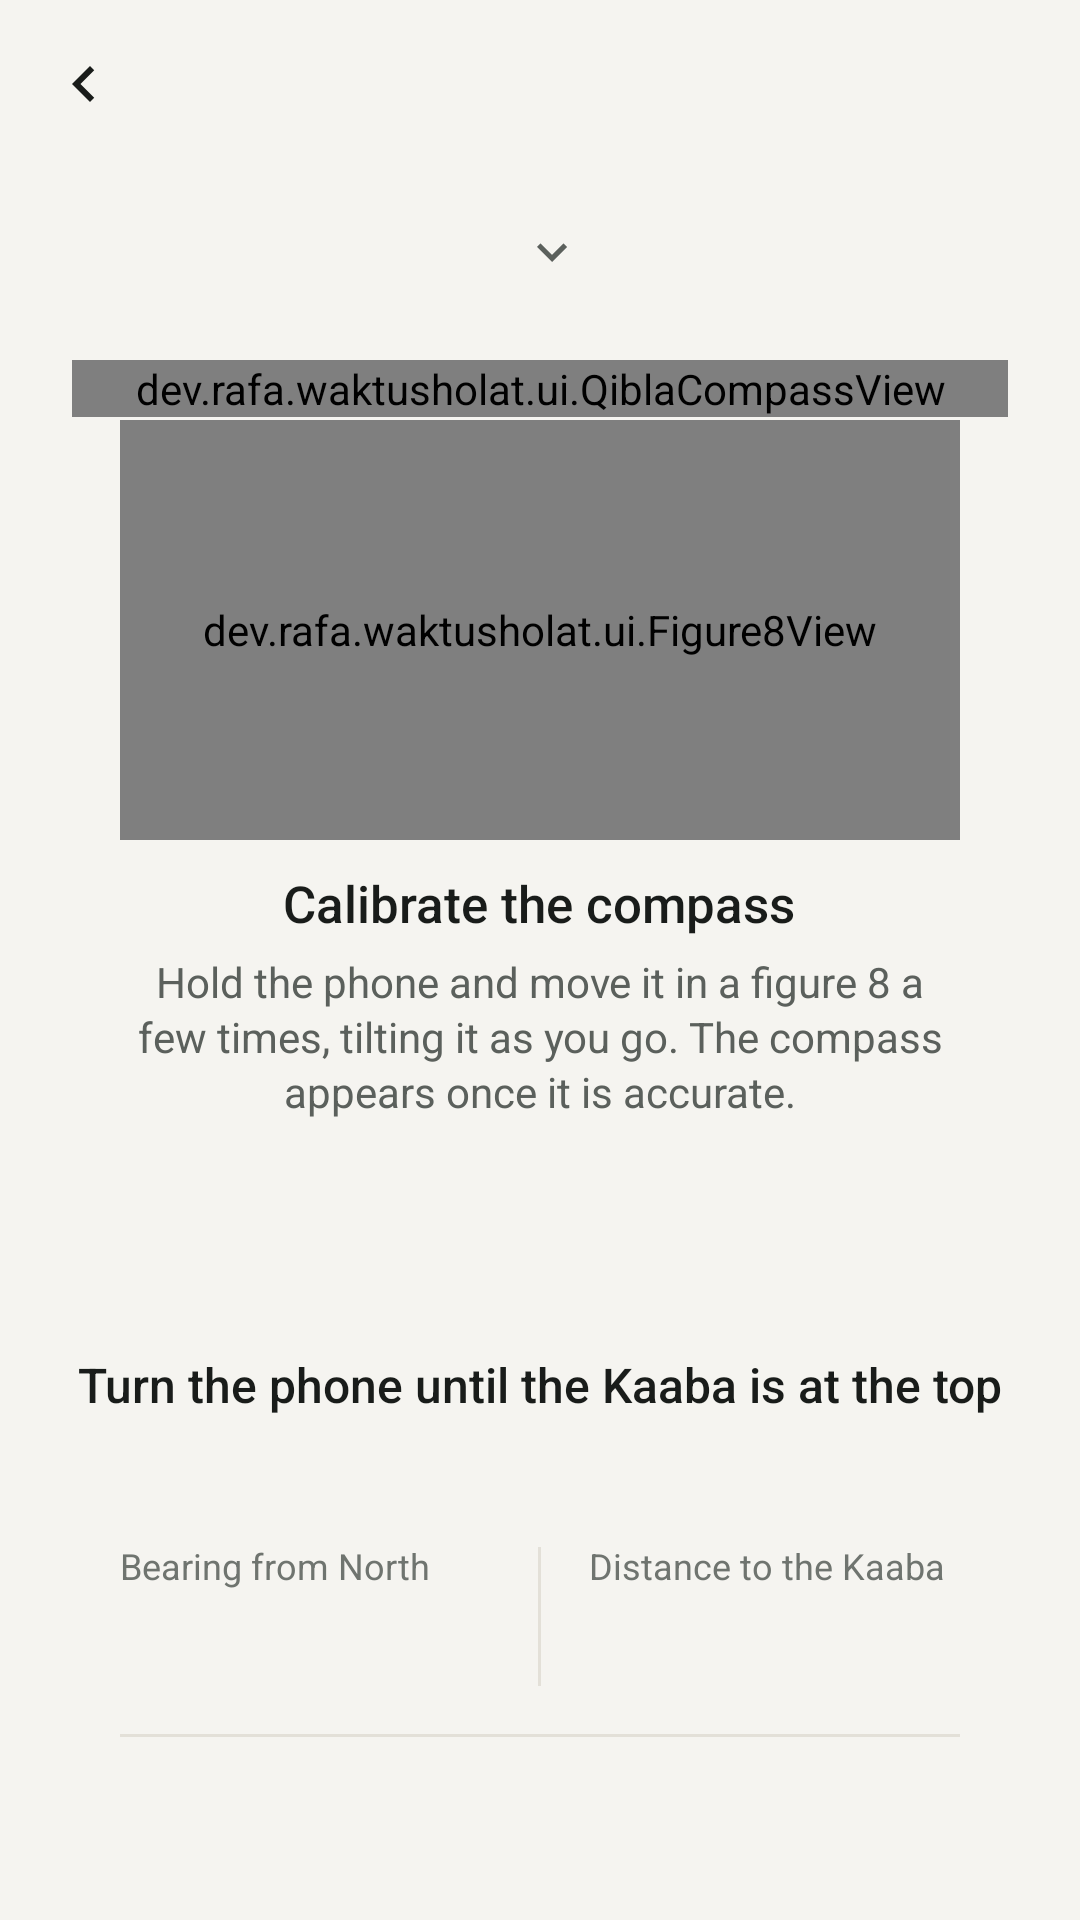

Where to tap for icons on this 1080 x 1920 app screen, as [x,y]:
Back: [83,84]
expand: [552,252]
